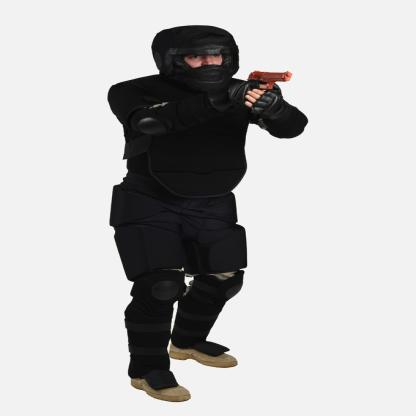Helmet: (150, 21, 244, 83)
